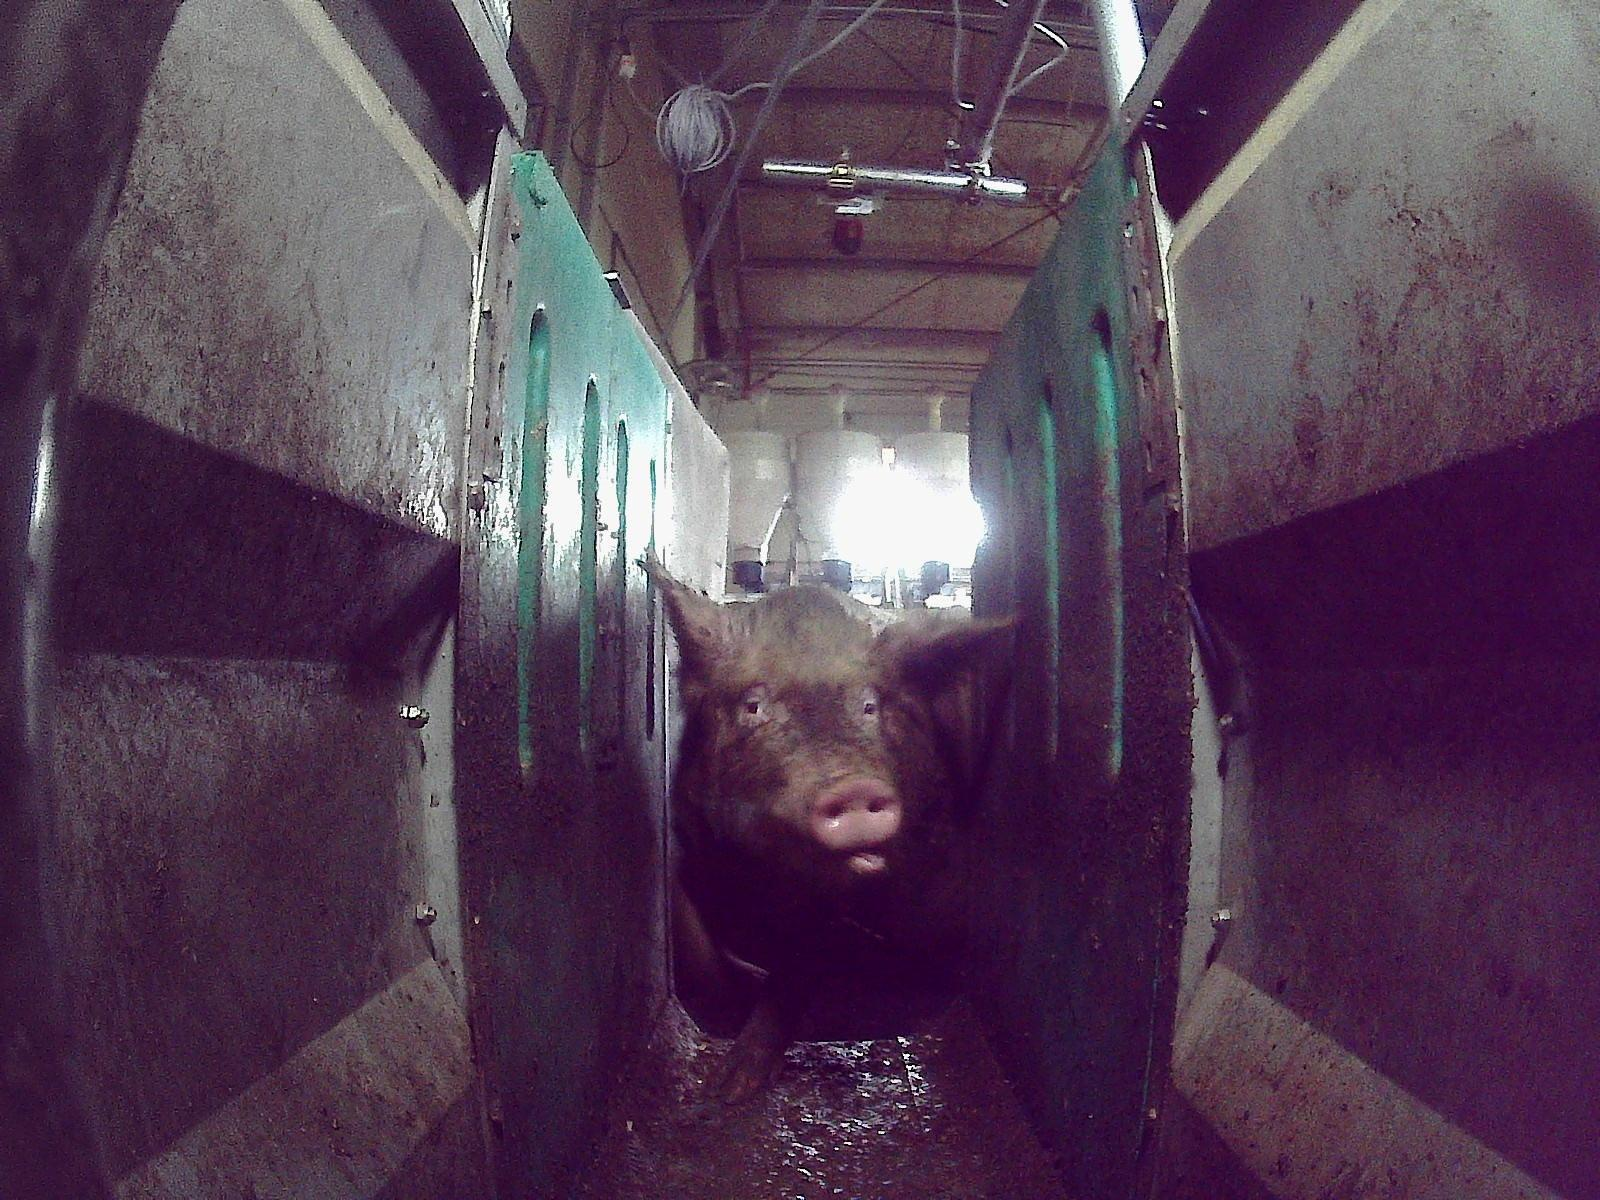Face: (686, 585, 916, 878)
